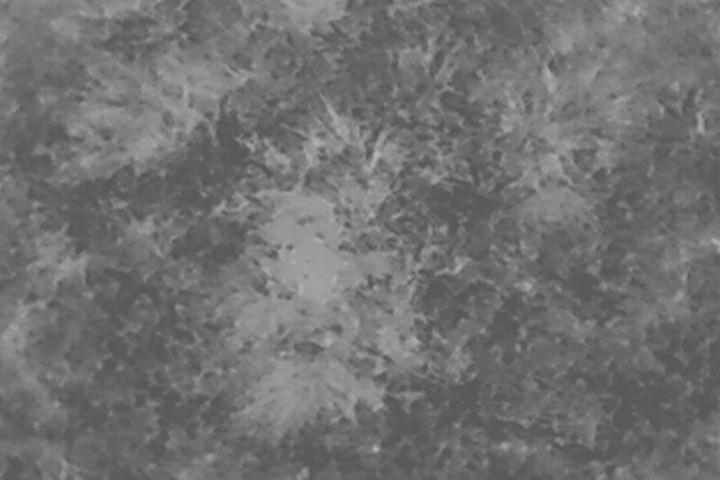landmine: (282, 239, 344, 305)
